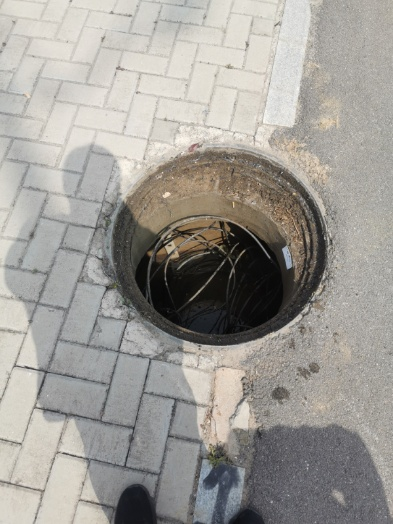lose: (106, 140, 335, 352)
